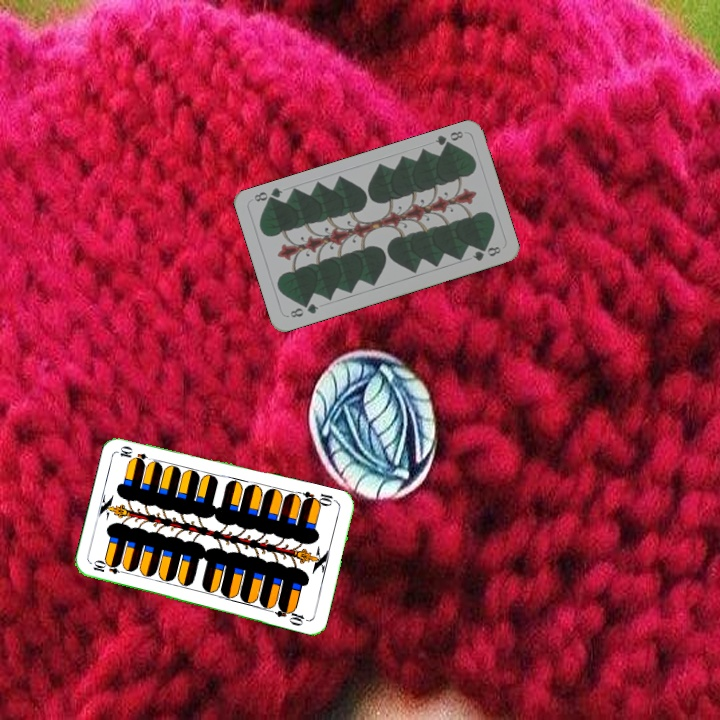E10: (299, 487, 340, 509), (89, 556, 129, 577)
G8: (431, 127, 466, 151), (286, 299, 321, 320)
